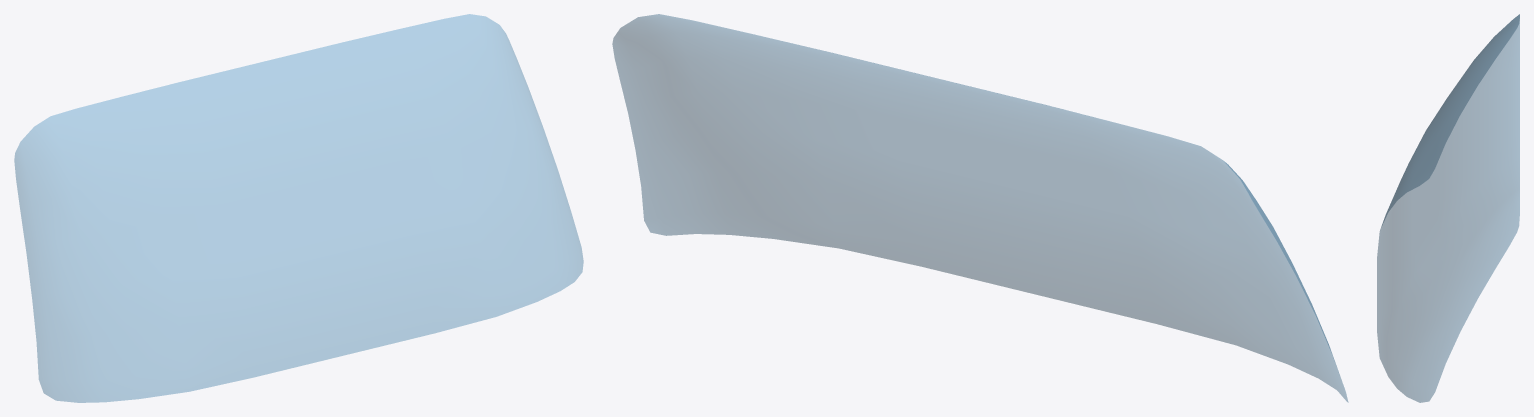
Rendered from obj_rewards_carwindshield_toppart.fbx.
The picture shows the model from 3 angles, left to right: view 1: azimuth 30°, elevation 25°; view 2: azimuth 150°, elevation 25°; view 3: azimuth 270°, elevation 25°; orthographic projection. The views are drawn at different scales.
Visible parts, largest first — view 1: glass.004; view 2: glass.004; view 3: glass.004.
Part boxes in pixels (left/top/right/bottom): glass.004: left=14, top=14, right=583, bottom=402; glass.004: left=612, top=14, right=1348, bottom=402; glass.004: left=1377, top=14, right=1519, bottom=402.
Bounding box in the file's own units: 8.16 × 3.32 × 2.2.
